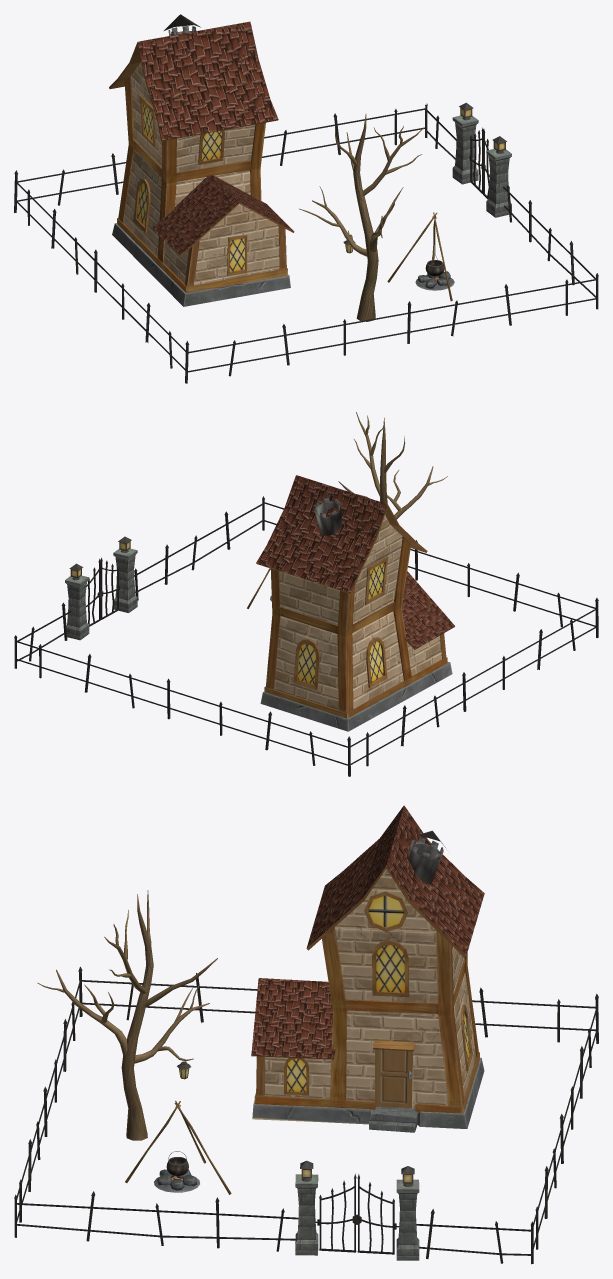
The model's file is fantasy_house.obj.
The picture shows the model from 3 angles, top to bottom: view 1: azimuth 30°, elevation 25°; view 2: azimuth 150°, elevation 25°; view 3: azimuth 270°, elevation 25°; orthographic projection. The views are drawn at different scales.
Visible parts, largest first — view 1: windows_and_roof_Cube, house_base_Cylinder.003, gate_Cube.008, house_wood_Cube.004, tree_Cylinder.050, gate_lights_Cube.032, fire_wood_Cube.021; view 2: house_base_Cylinder.003, windows_and_roof_Cube, gate_Cube.008, house_wood_Cube.004, gate_lights_Cube.032, tree_Cylinder.050; view 3: house_base_Cylinder.003, windows_and_roof_Cube, gate_Cube.008, house_wood_Cube.004, tree_Cylinder.050, gate_lights_Cube.032, fire_wood_Cube.021.
Boxes of the visible parts, x1=… form: windows_and_roof_Cube: x1=109, y1=14, x2=294, y2=275; house_base_Cylinder.003: x1=112, y1=61, x2=290, y2=306; gate_Cube.008: x1=14, y1=103, x2=598, y2=383; house_wood_Cube.004: x1=117, y1=75, x2=287, y2=292; tree_Cylinder.050: x1=299, y1=114, x2=423, y2=321; gate_lights_Cube.032: x1=452, y1=102, x2=511, y2=217; fire_wood_Cube.021: x1=343, y1=212, x2=454, y2=301; house_base_Cylinder.003: x1=260, y1=515, x2=452, y2=731; windows_and_roof_Cube: x1=256, y1=475, x2=454, y2=689; gate_Cube.008: x1=14, y1=496, x2=598, y2=776; house_wood_Cube.004: x1=264, y1=536, x2=447, y2=718; gate_lights_Cube.032: x1=65, y1=536, x2=137, y2=640; tree_Cylinder.050: x1=338, y1=412, x2=447, y2=519; house_base_Cylinder.003: x1=252, y1=869, x2=484, y2=1132; windows_and_roof_Cube: x1=251, y1=805, x2=484, y2=1095; gate_Cube.008: x1=14, y1=966, x2=598, y2=1264; house_wood_Cube.004: x1=254, y1=927, x2=479, y2=1113; tree_Cylinder.050: x1=37, y1=890, x2=217, y2=1140; gate_lights_Cube.032: x1=295, y1=1160, x2=419, y2=1260; fire_wood_Cube.021: x1=125, y1=1059, x2=231, y2=1194.
Bounding box in the file's own units: 15.19 × 7.64 × 15.
7 materials, 7 textured.
